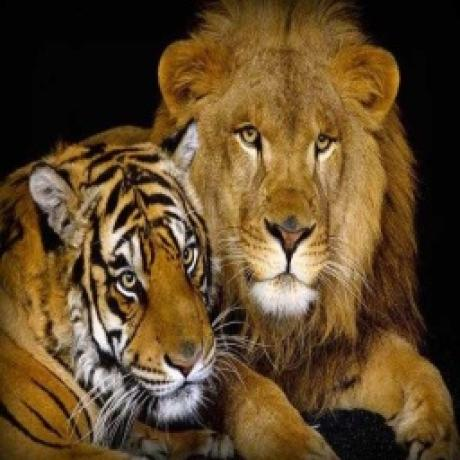Lion: (151, 0, 460, 460)
